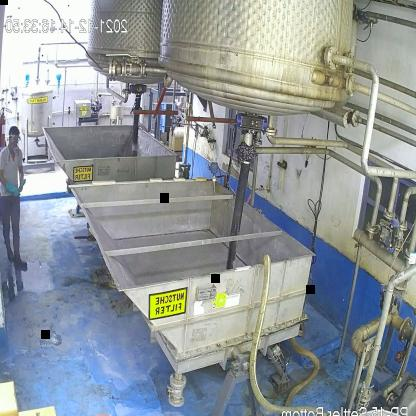goggles: (9, 132, 22, 144)
shoes: (13, 246, 28, 268), (5, 240, 15, 265)
